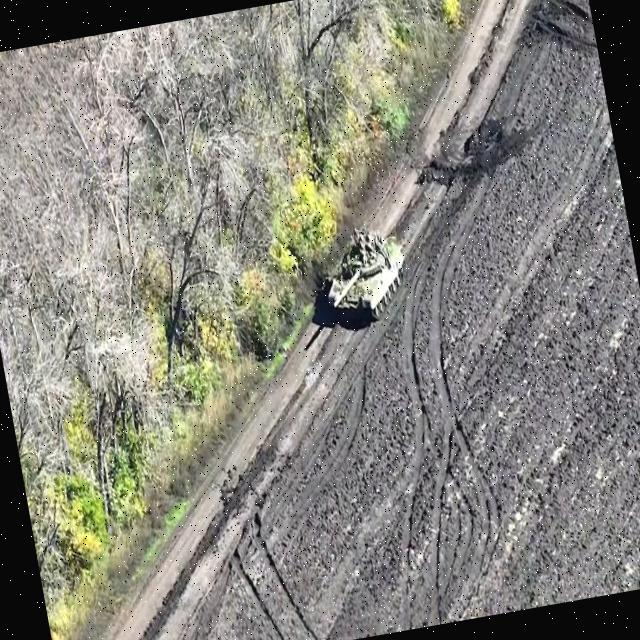MBT: (314, 215, 420, 336)
